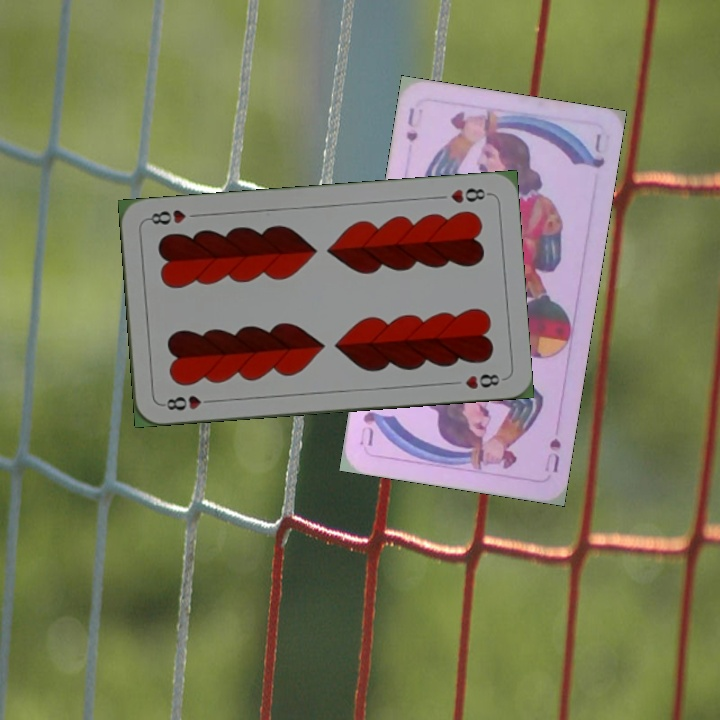H8: (158, 392, 217, 413), (447, 184, 492, 205)
SU: (540, 433, 564, 475), (402, 103, 420, 144)
